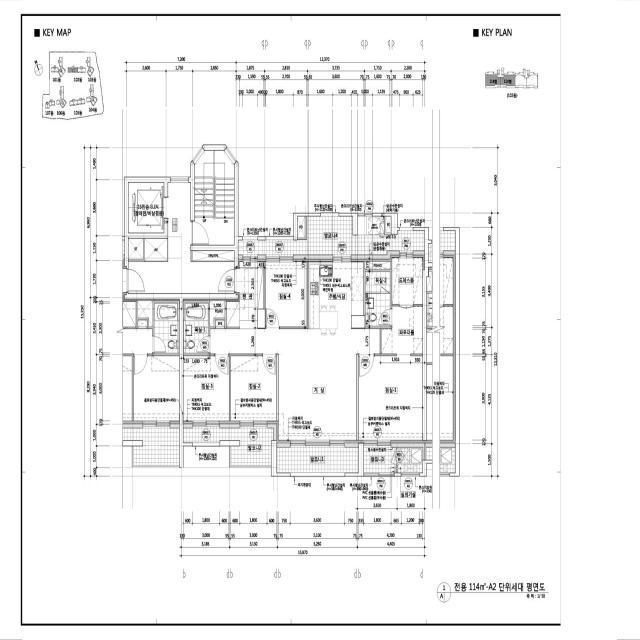space_balconi: (238, 216, 424, 254), (183, 428, 273, 465), (277, 448, 358, 473), (364, 445, 397, 473)
space_bedroom: (359, 356, 423, 443), (183, 356, 229, 424), (231, 356, 276, 424), (266, 259, 306, 327)
space_dressroom: (381, 306, 422, 353), (392, 255, 424, 304)
space_elevator: (128, 183, 164, 233)
space_elevator_hall: (128, 183, 234, 293)
space_front: (226, 259, 264, 329)
space_kitchen: (308, 259, 363, 329)
space_living_room: (210, 329, 380, 443)
space_other: (398, 447, 423, 473), (145, 238, 167, 261), (193, 250, 234, 261), (210, 299, 225, 327), (128, 239, 143, 259), (365, 259, 390, 269), (297, 217, 305, 238), (386, 216, 391, 233), (215, 320, 225, 327)
space_staircase: (195, 150, 234, 245)
space_toilet: (365, 271, 390, 327), (183, 303, 208, 354)
